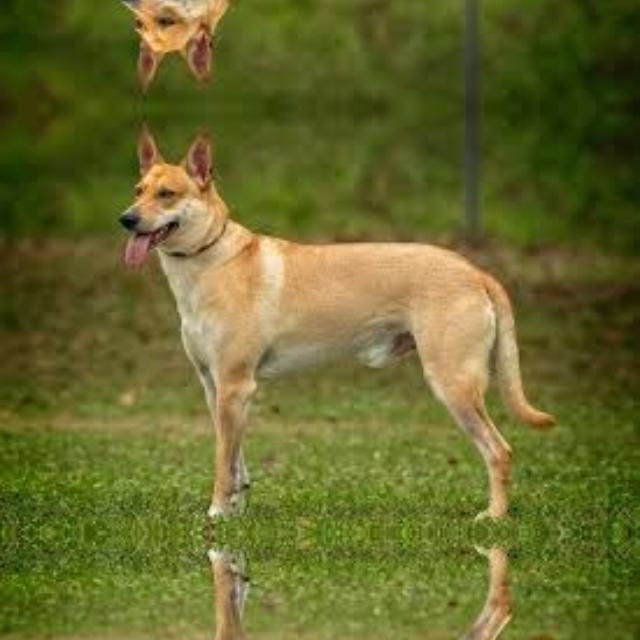dog: (100, 117, 564, 533), (99, 533, 564, 640), (99, 0, 564, 97)
